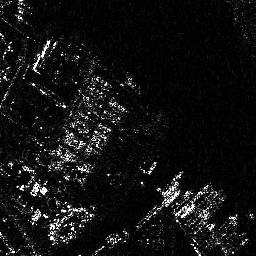ship: (156, 171, 185, 200)
